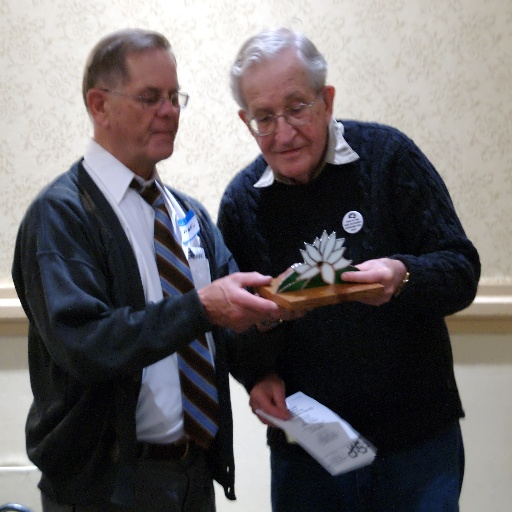hand: (197, 271, 270, 333), (340, 257, 403, 307), (245, 372, 296, 429)
